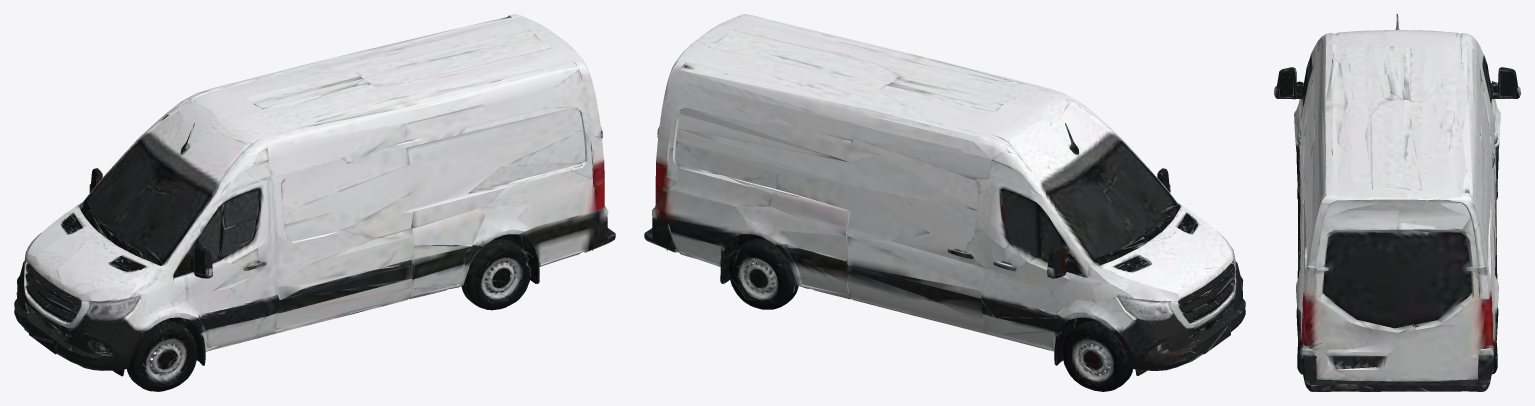
Rendered from service-van-512.glb.
3 renders of one model, left to right at view 1: azimuth 30°, elevation 25°; view 2: azimuth 150°, elevation 25°; view 3: azimuth 270°, elevation 25°, orthographic. The views are drawn at different scales.
Visible parts, largest first — view 1: Mesh_0; view 2: Mesh_0; view 3: Mesh_0.
Part boxes in pixels (bbox=[...]): Mesh_0: bbox=[14, 14, 615, 391]; Mesh_0: bbox=[644, 14, 1245, 391]; Mesh_0: bbox=[1274, 14, 1520, 391].
Size of the model in its own units: 1.9 by 0.7411 by 0.7343.
Materials: 1 (1 with a texture image).
